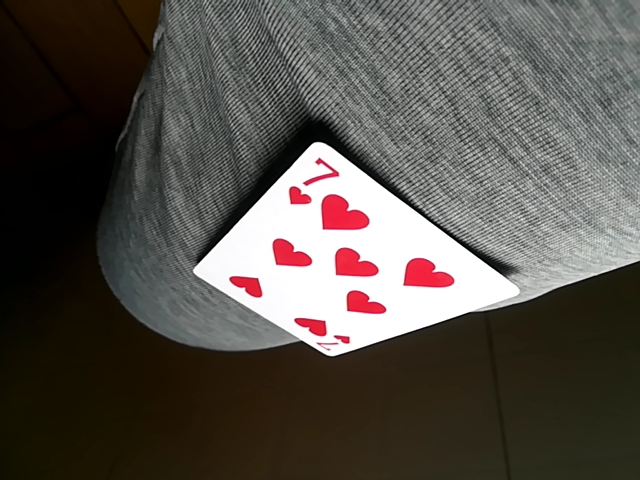hx 7: (189, 143, 520, 359)
